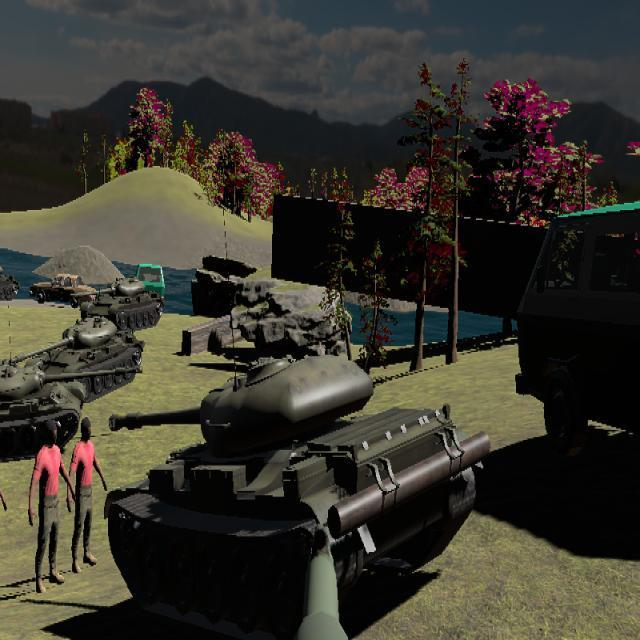Human: (28, 418, 76, 593), (68, 416, 108, 576)
Tank: (108, 349, 495, 634), (0, 354, 137, 465), (10, 315, 145, 401), (78, 277, 163, 333), (0, 262, 20, 302)
car: (516, 195, 640, 455), (31, 272, 97, 308)
